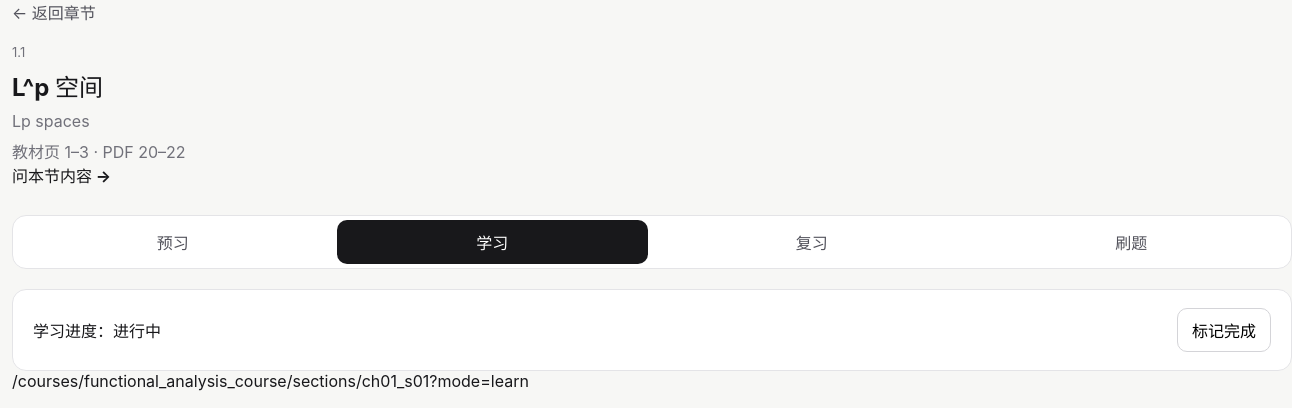
SectionPage › shows in-progress state and completes only through the explicit action
The width and height of the screenshot is (1292, 408).
(page scrolled)
Expected: the text "学习进度：进行中" is shown, 33,318 -> 161,342
Click the button "标记完成" at x=1224, y=330, box 1177,308 -> 1271,352
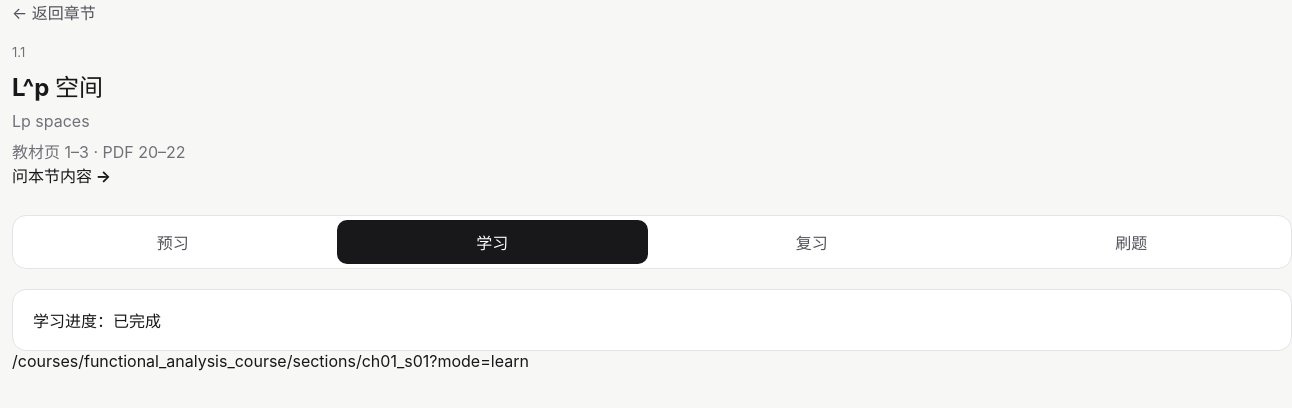
Expected: the text "学习进度：已完成" is shown, 33,308 -> 161,332
Expected: the button "标记完成" is gone
